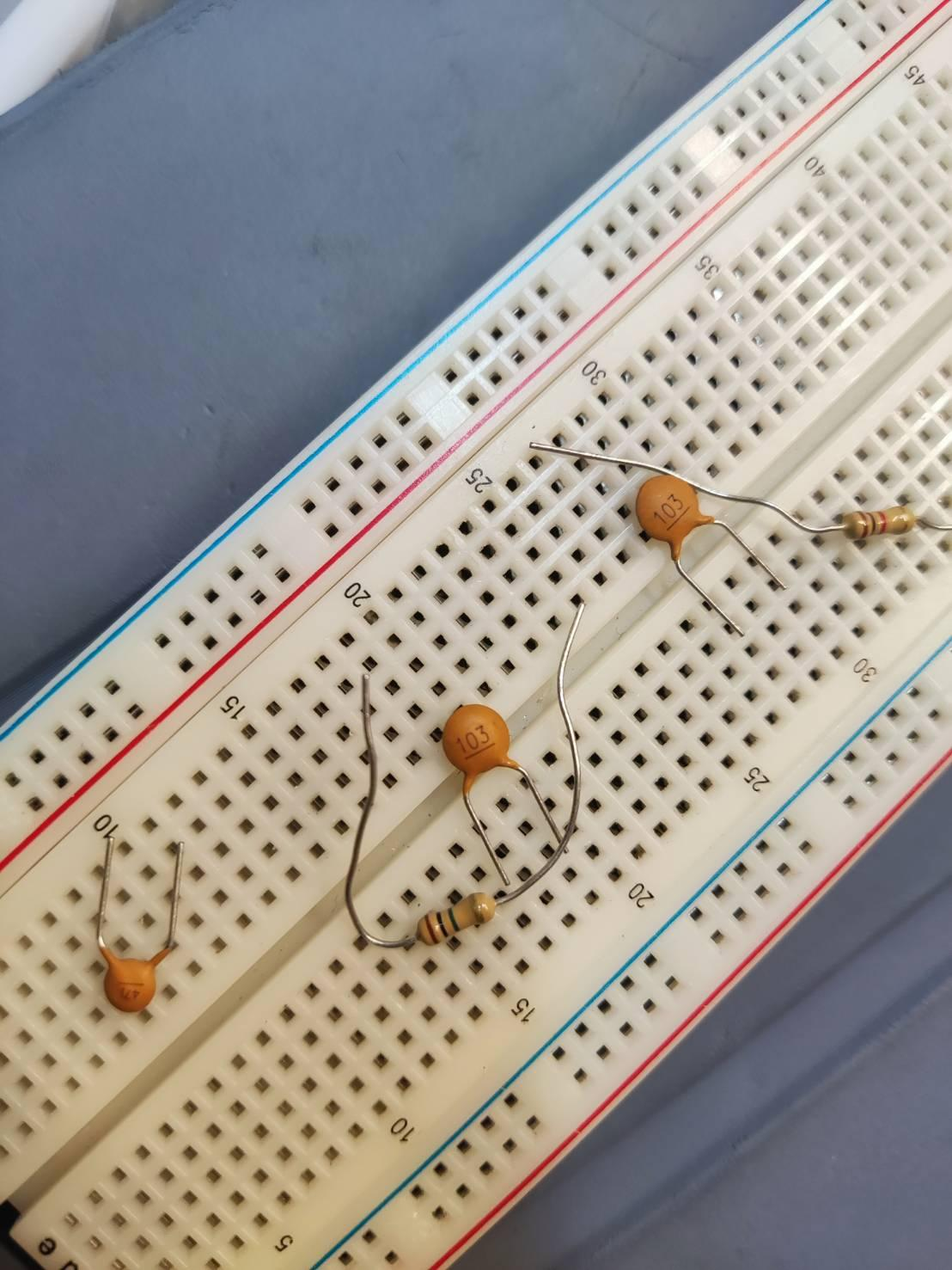resistor: (414, 880, 510, 953), (839, 502, 925, 547)
